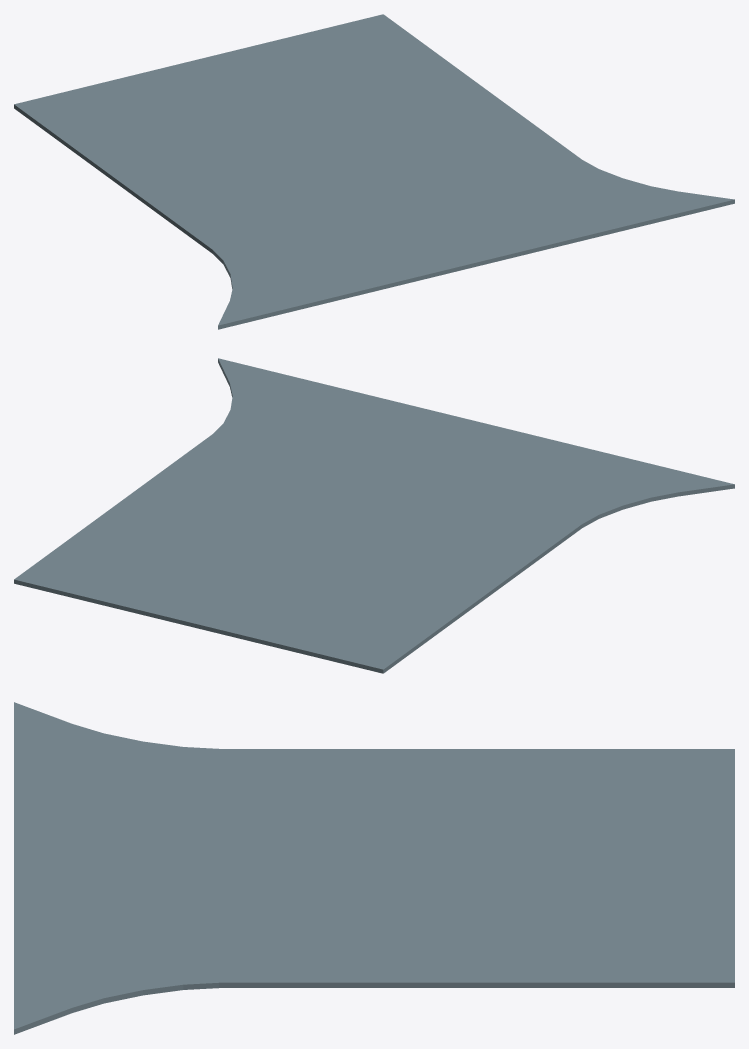
File: Sign_Way.fbx
3 renders of one model, top to bottom at view 1: azimuth 30°, elevation 25°; view 2: azimuth 150°, elevation 25°; view 3: azimuth 270°, elevation 25°, orthographic. The views are drawn at different scales.
Parts seen in each view (by area): view 1: Sign_Way; view 2: Sign_Way; view 3: Sign_Way.
Boxes of the visible parts, left/top/right/bottom form: Sign_Way: left=14, top=14, right=734, bottom=329; Sign_Way: left=14, top=358, right=734, bottom=673; Sign_Way: left=14, top=702, right=734, bottom=1034.
Bounding box in the file's own units: 262 × 2 × 244.
